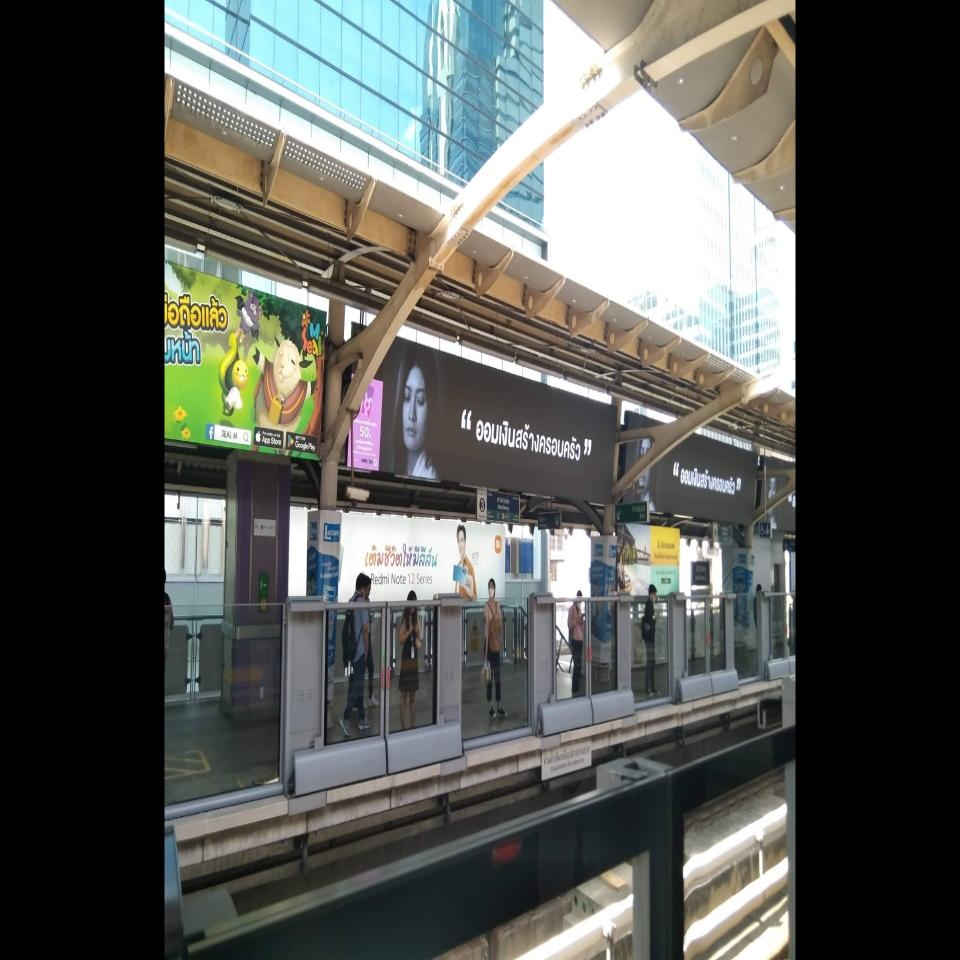signage: (692, 561, 710, 587), (497, 490, 510, 522)
